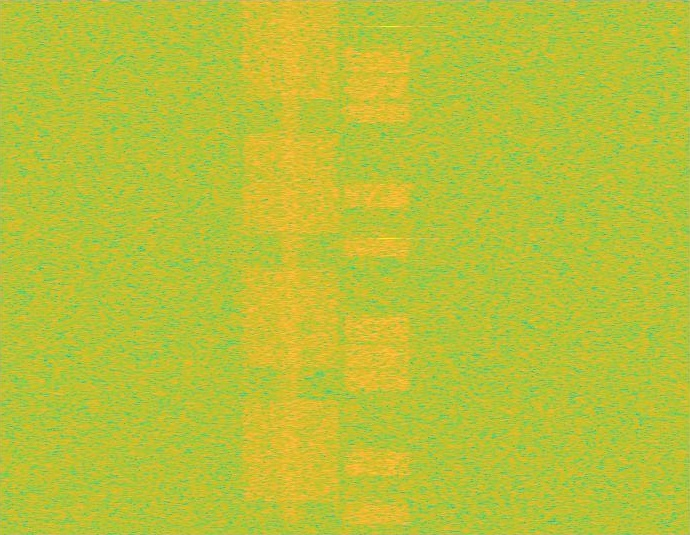5G: (239, 0, 342, 534)
DSSS: (279, 0, 302, 534)
LTE: (343, 0, 412, 534)
Radar: (383, 0, 397, 534)
